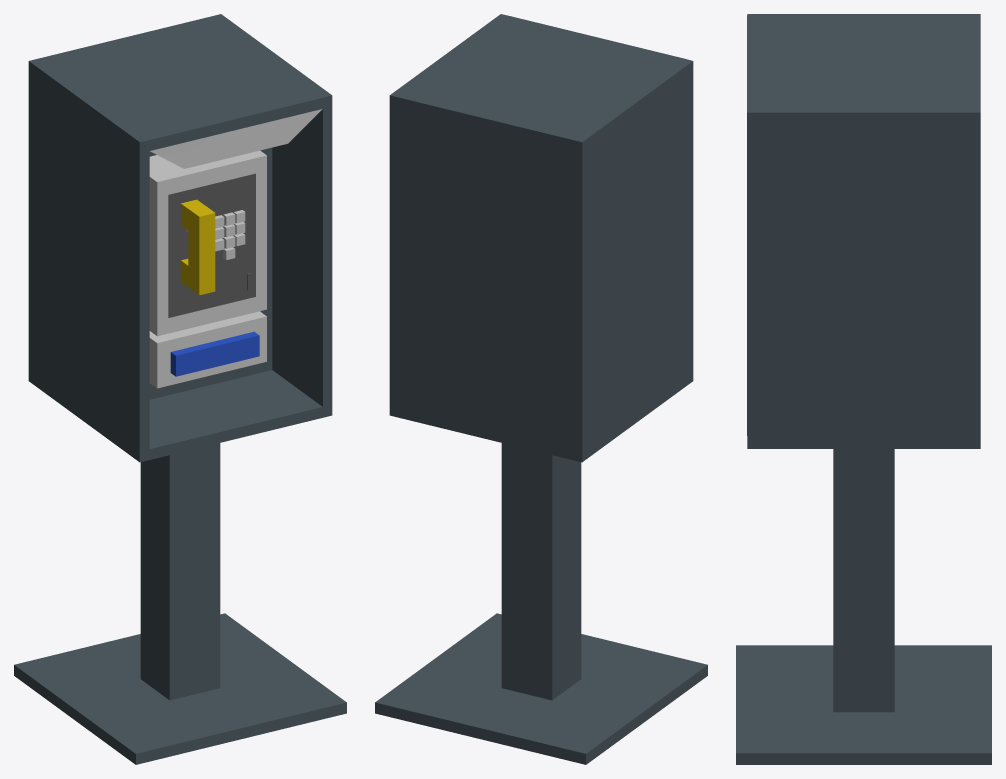
Rendered from Payphone.fbx.
3 renders of one model, left to right at view 1: azimuth 30°, elevation 25°; view 2: azimuth 150°, elevation 25°; view 3: azimuth 270°, elevation 25°, orthographic. The views are drawn at different scales.
Parts seen in each view (by area): view 1: Payphone_1, Phonebody, thinggg, thing, Phone; view 2: Payphone_1; view 3: Payphone_1.
Boxes of the visible parts, left/top/right/bottom form: Payphone_1: left=14, top=14, right=346, bottom=764; Phonebody: left=149, top=150, right=266, bottom=336; thinggg: left=149, top=311, right=266, bottom=388; thing: left=170, top=331, right=259, bottom=376; Phone: left=188, top=205, right=215, bottom=295; Payphone_1: left=375, top=14, right=707, bottom=764; Payphone_1: left=736, top=14, right=991, bottom=764.
Bounding box in the file's own units: 100 × 279 × 100.
